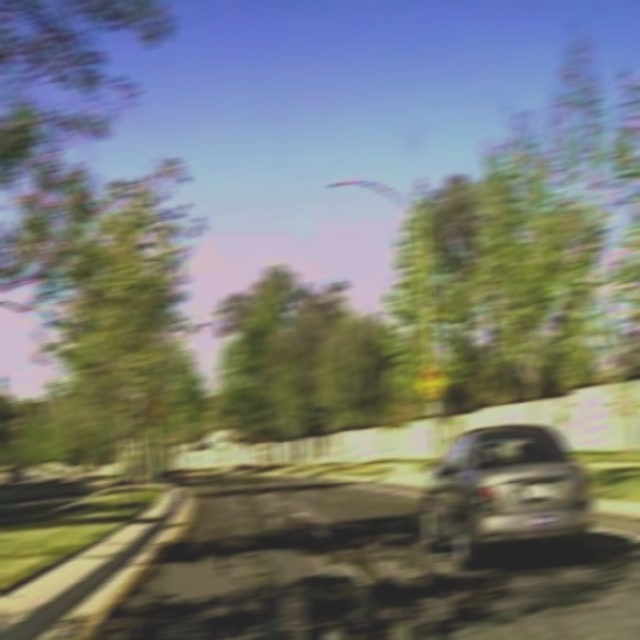signalAhead: (416, 363, 446, 402)
